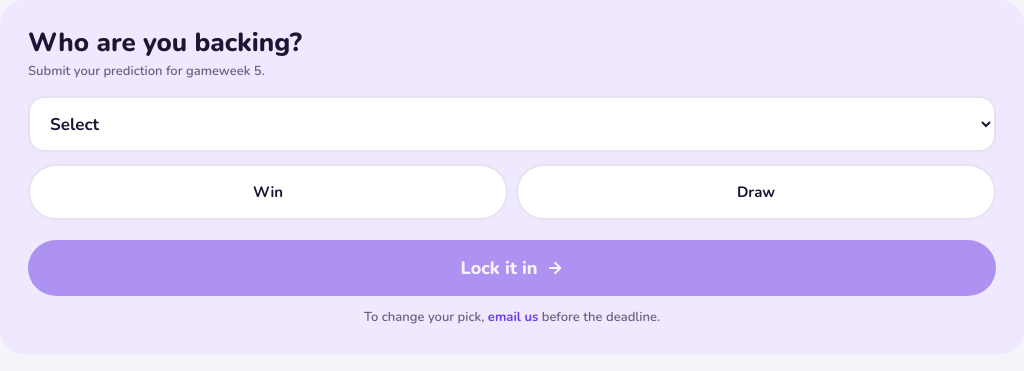
it: Predictions outcome buttons › shows Win and Draw as buttons, and only the clicked one is pressed
Click the button "Draw". click: (756, 192)
box: [516,164,996,220]
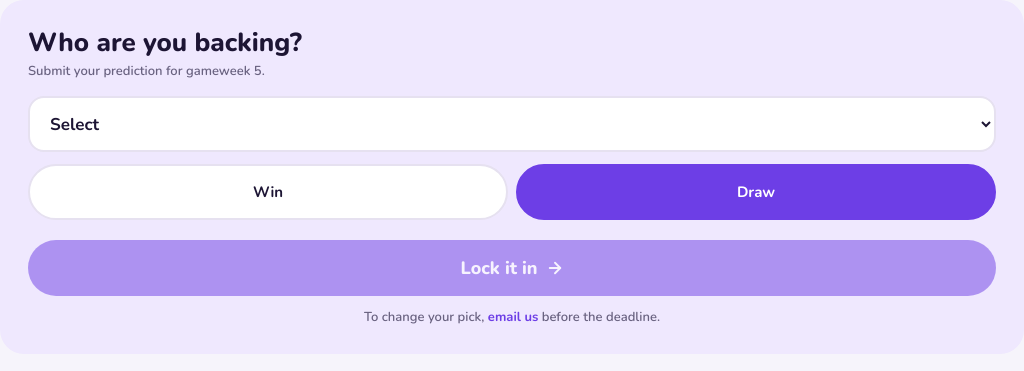
Check: the button "Draw" is pressed, box [516,164,996,220]
Click the button "Win". click: (268, 192)
box: [28,164,508,220]
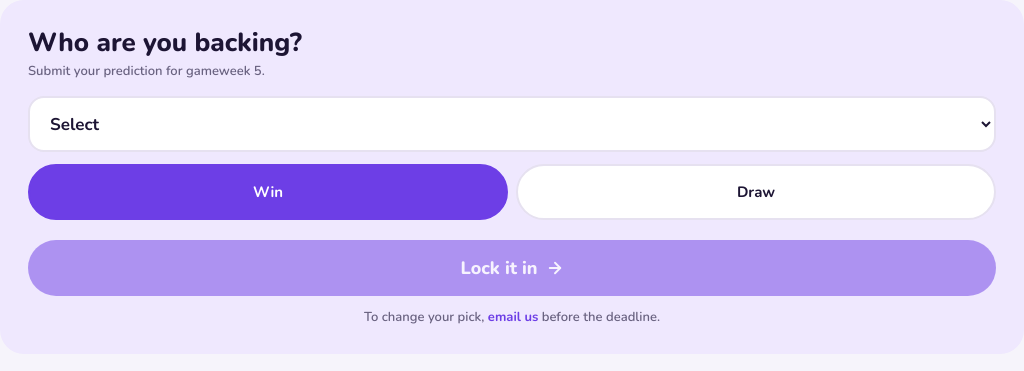
Check: the button "Win" is pressed, box [28,164,508,220]
Check: the button "Draw" is not pressed, box [516,164,996,220]
